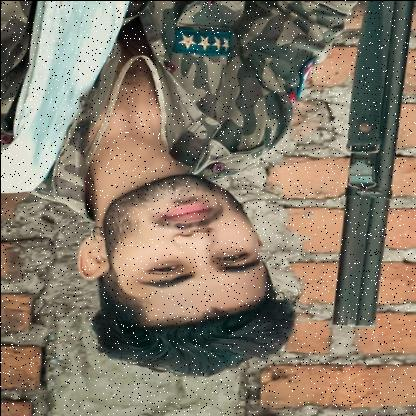rifle: (326, 0, 416, 328)
